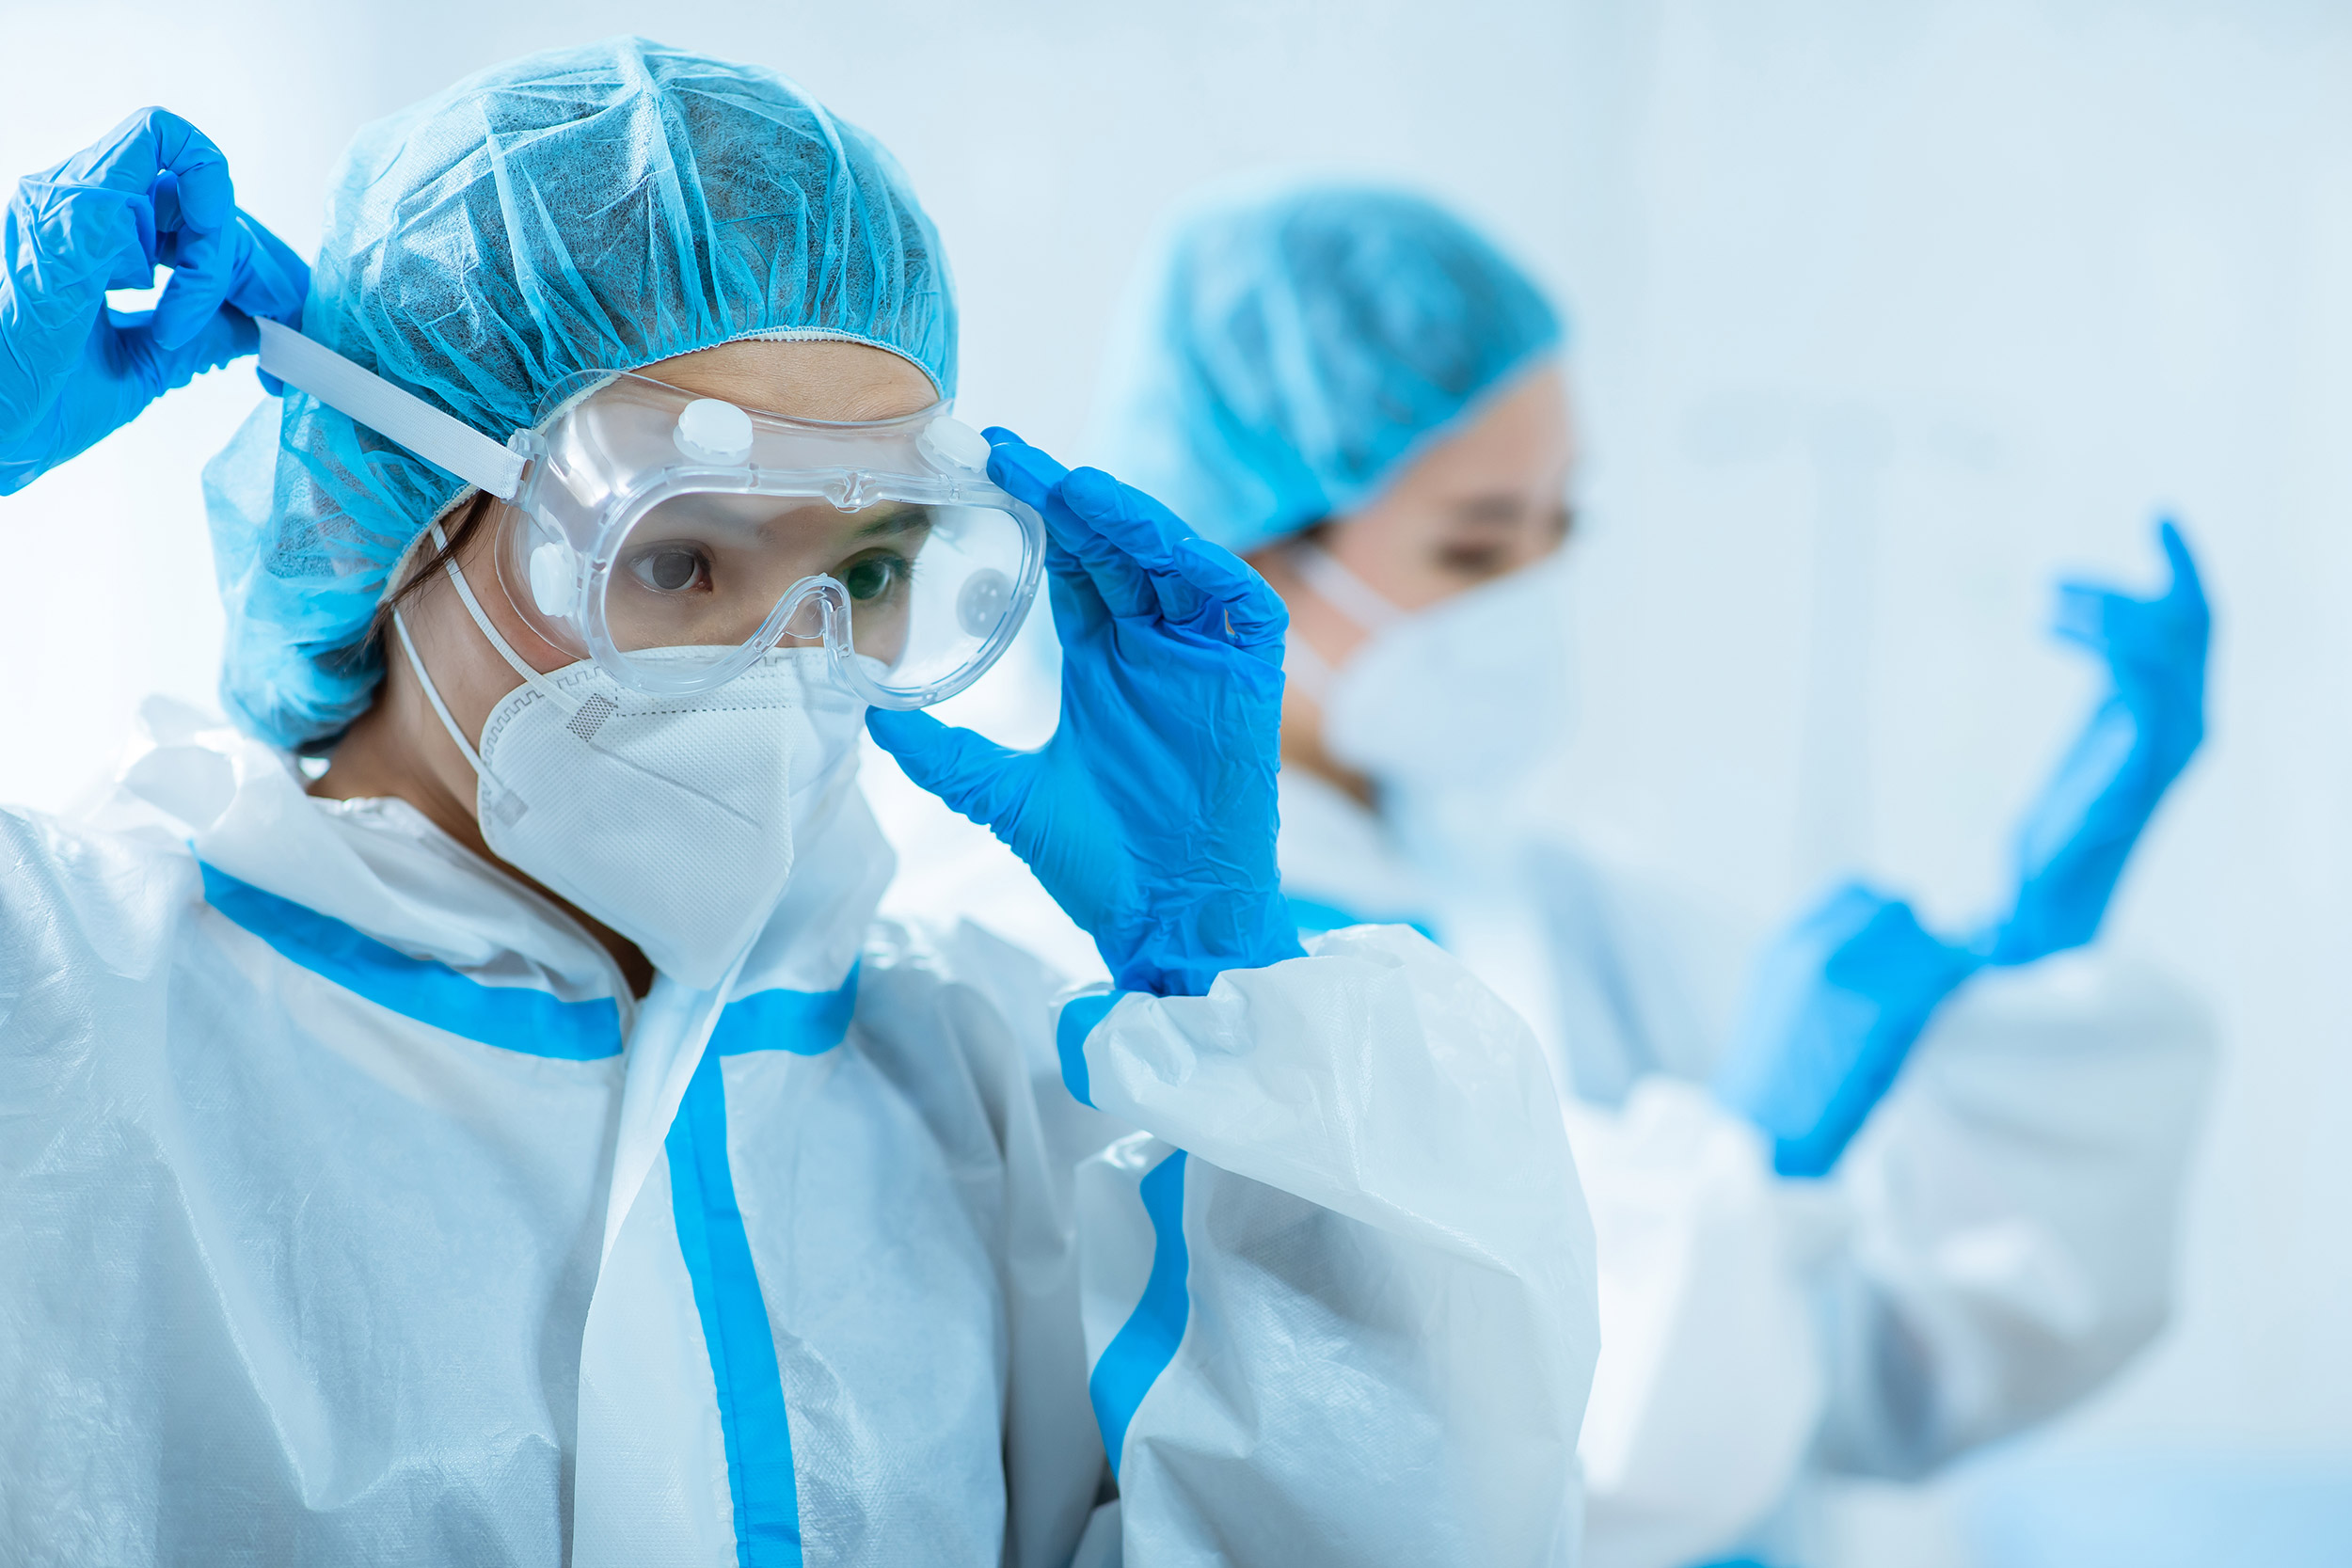Coverall: (24, 751, 1585, 1568)
Gloves: (870, 425, 1351, 1003), (2, 89, 315, 518), (1970, 500, 2250, 955), (1689, 843, 1967, 1242)
Goggles: (474, 352, 1050, 733)
Mask: (432, 485, 915, 969)
